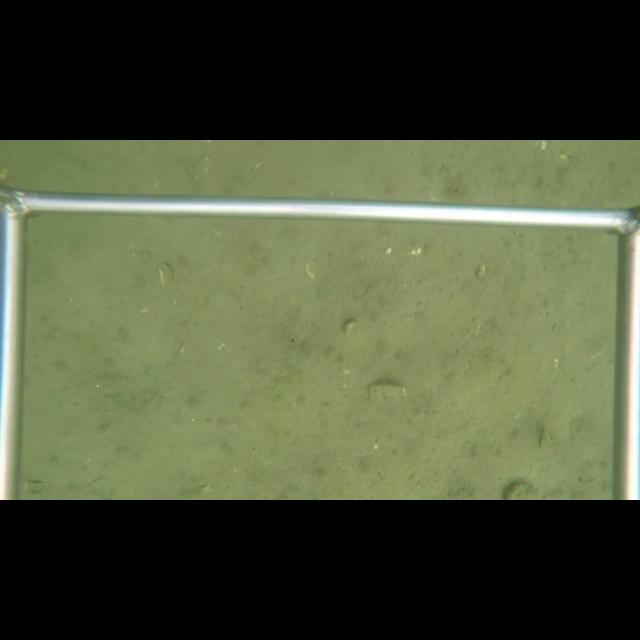Oyster-Closed: (366, 379, 410, 400)
